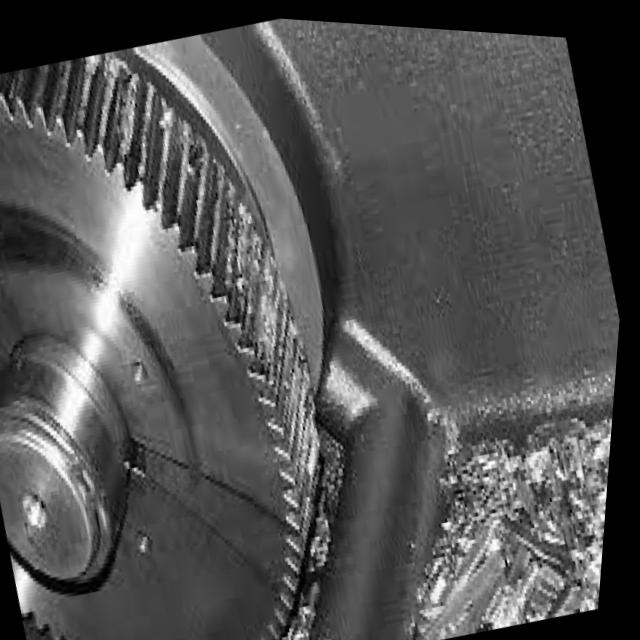Fault-Exist: (130, 96, 398, 621), (71, 63, 176, 208)
